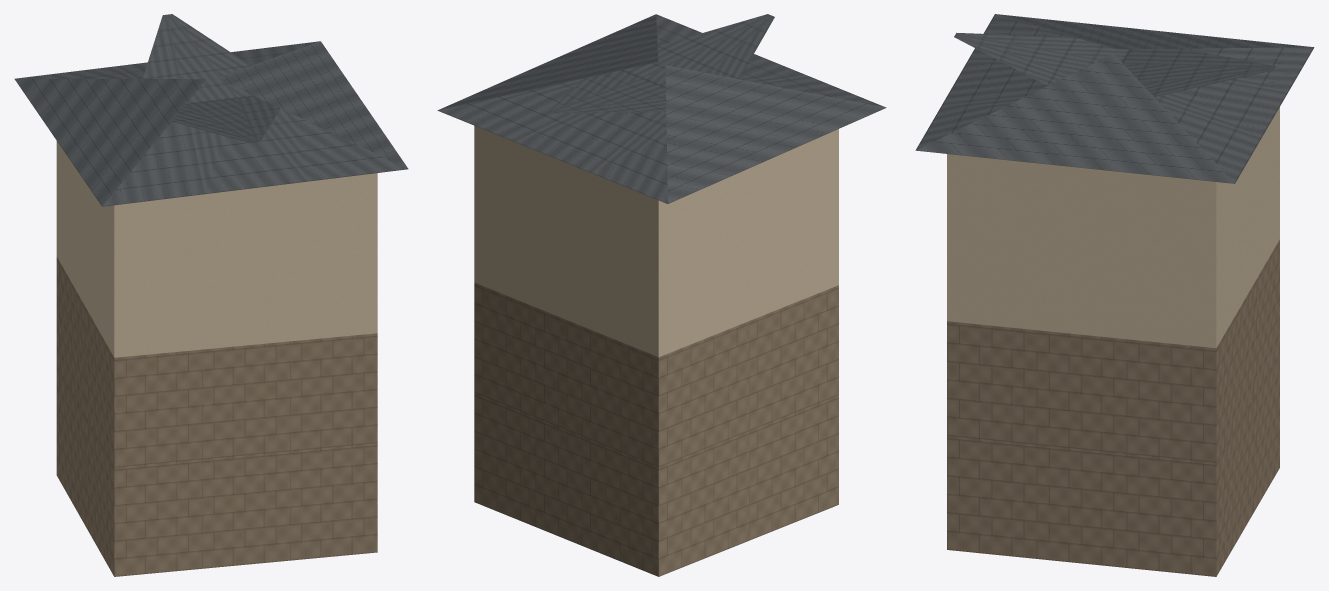
Rendered from bld_c3_17_458.gltf.
The picture shows the model from 3 angles, left to right: view 1: azimuth 30°, elevation 25°; view 2: azimuth 150°, elevation 25°; view 3: azimuth 270°, elevation 25°; orthographic projection. The views are drawn at different scales.
Visible parts, largest first — view 1: bld_c3_17_458; view 2: bld_c3_17_458; view 3: bld_c3_17_458.
Part boxes in pixels (x1,y1,x2,y2): bld_c3_17_458: (14,14,408,576); bld_c3_17_458: (437,14,886,576); bld_c3_17_458: (915,14,1314,576).
Size of the model in its own units: 7.69 by 9.6 by 7.64.
Materials: 3 (3 with a texture image).
